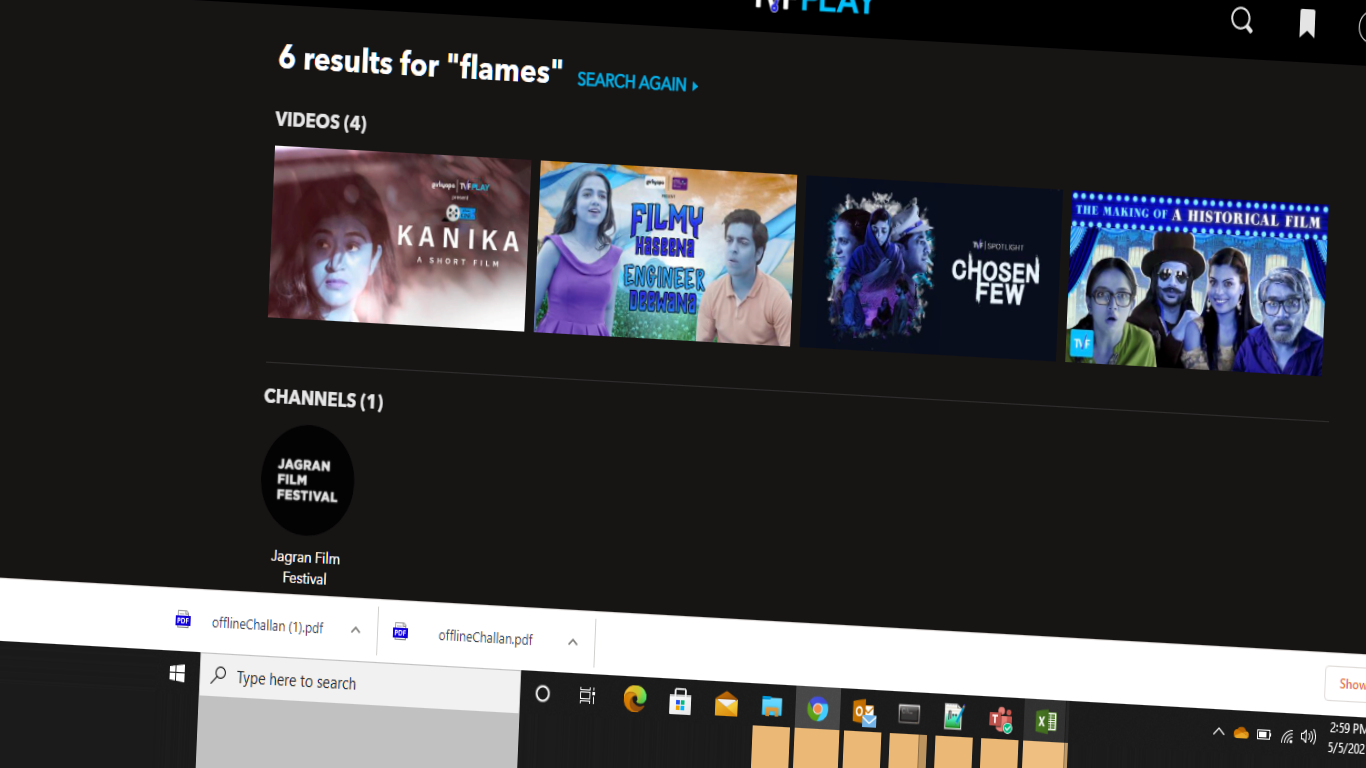resultsfound: (277, 22, 717, 106)
searchicon: (1217, 1, 1260, 42)
